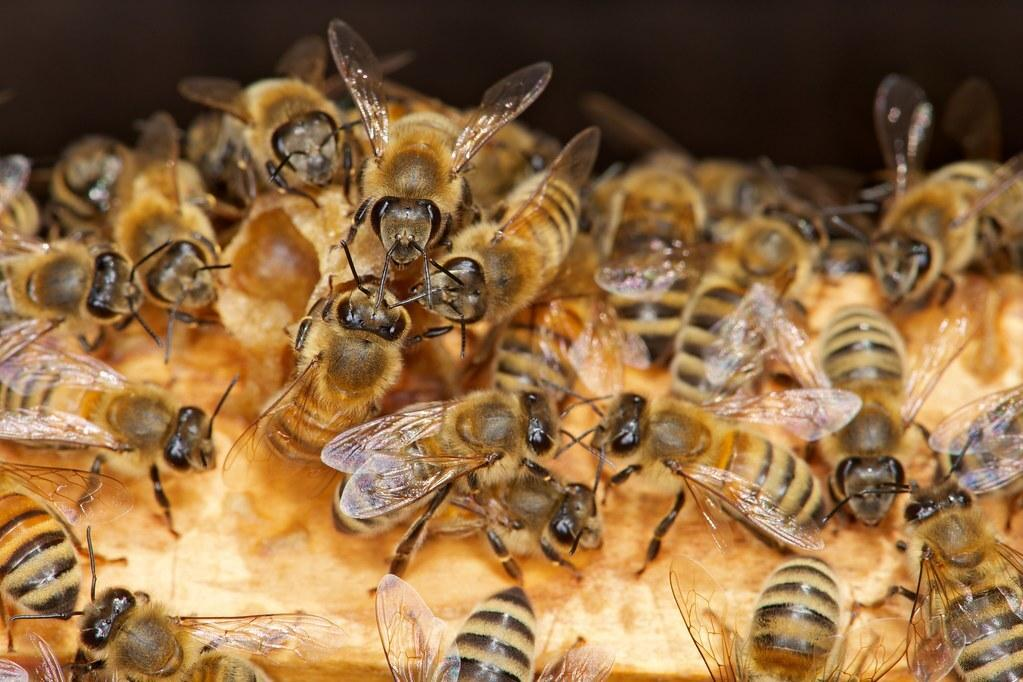worker-bee: (328, 19, 551, 292), (224, 246, 450, 486), (0, 326, 215, 530), (591, 393, 824, 569), (321, 389, 559, 553), (415, 127, 600, 324), (869, 74, 1022, 304), (818, 305, 962, 525), (670, 556, 904, 681), (178, 35, 353, 190), (670, 216, 813, 403), (73, 587, 345, 681), (903, 478, 1022, 681), (593, 152, 705, 360), (113, 112, 226, 318), (0, 460, 133, 623), (0, 233, 141, 343), (928, 384, 1022, 492), (455, 587, 535, 681)
